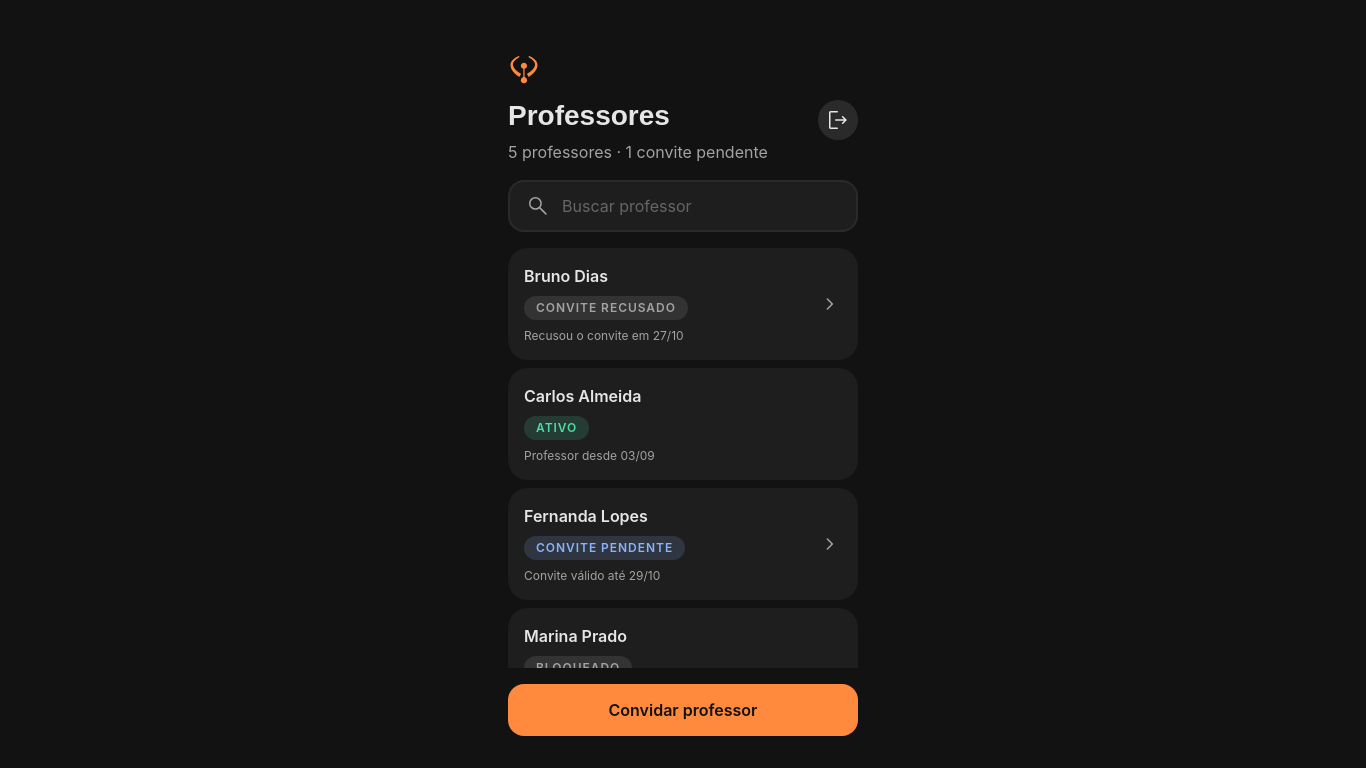
Test: Lista de professores (regras 92, 102 e 114) › Sair abre a folha sem o aviso da fila local (regra 145)
The image size is (1366, 768).
Click the button named "Sair": (838, 120) [818,100,858,140]
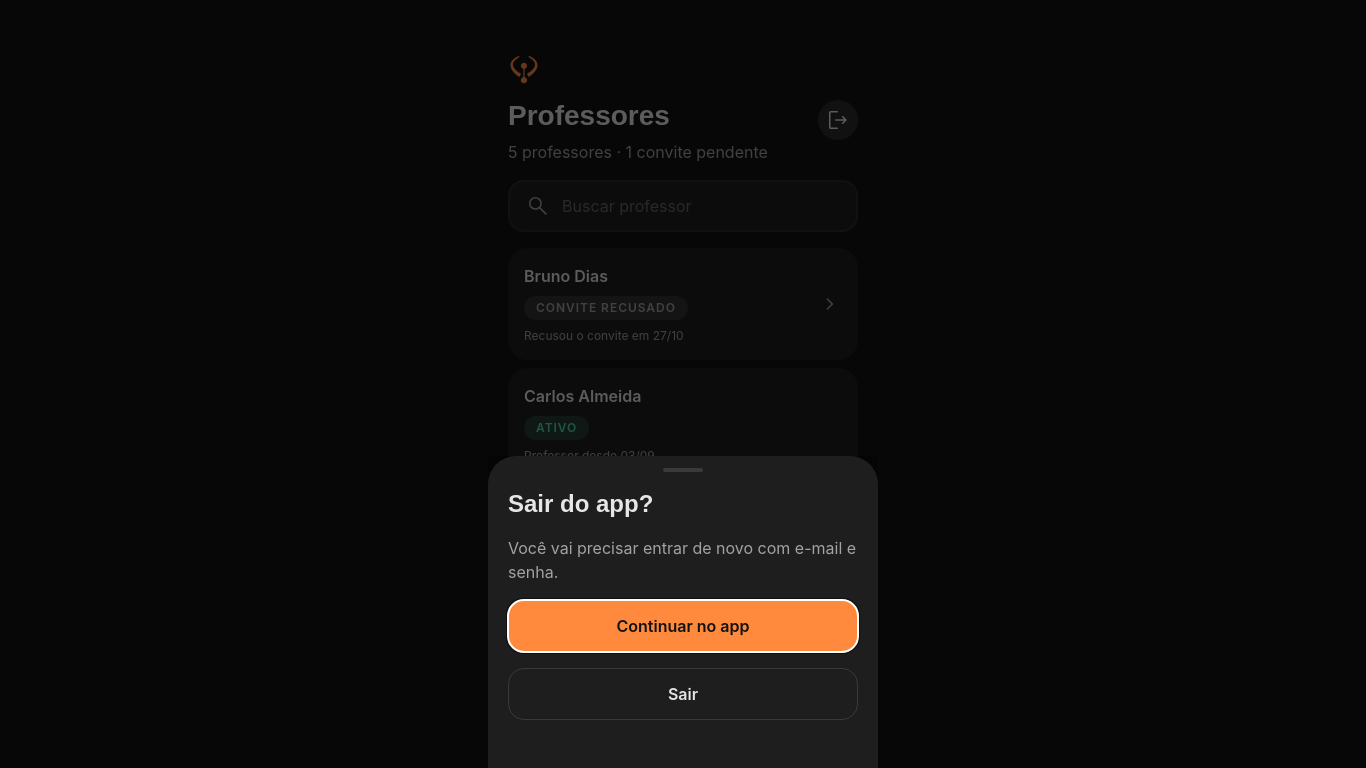
Check: the text "Você vai precisar entrar de novo com e-mail e senha." is shown, box [508,536,858,584]
Check: the button "Continuar no app" is shown, box [508,600,858,652]
